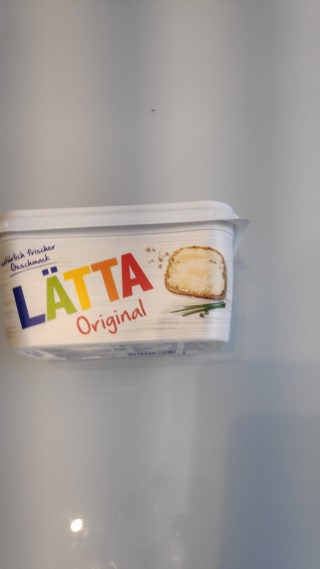laetta: (1, 196, 254, 364)
